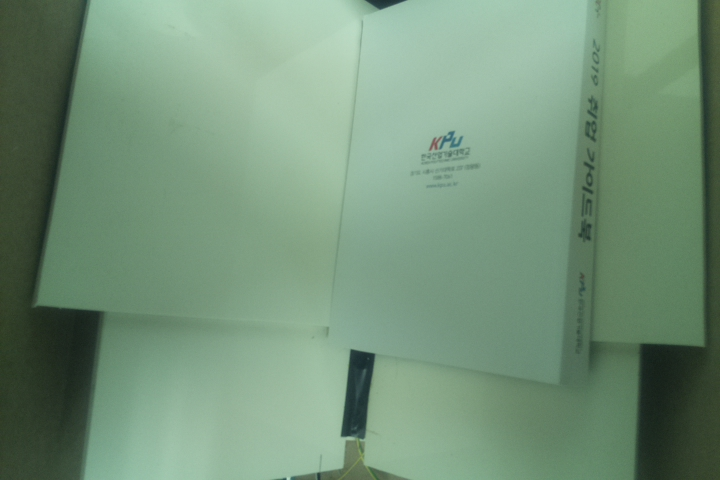book: (326, 1, 609, 389)
